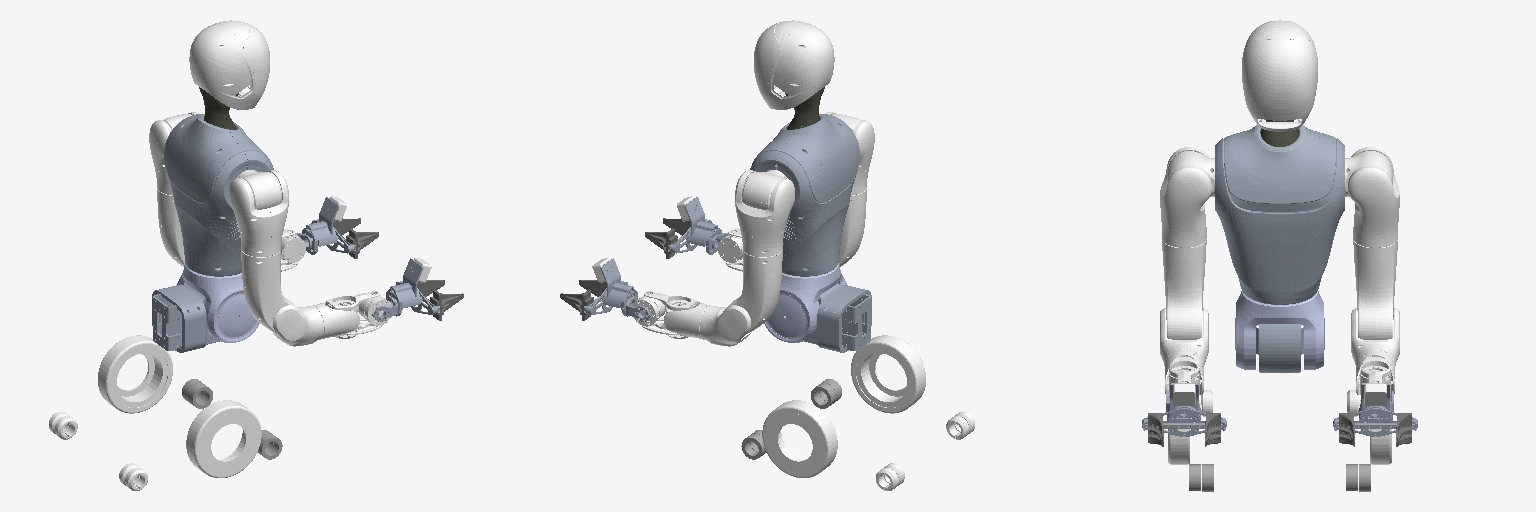
--- Facts derived from the render (not from the file) ---
3 views of the same robot in one strip: view 1: azimuth 30°, elevation 25°; view 2: azimuth 150°, elevation 25°; view 3: azimuth 270°, elevation 25° (orthographic).
Model ZR_H1PRO-1.2.00.H.V4.2_URDF_2025.11.17 with 35 links and 34 joints (18 revolute, 6 continuous, 5 prismatic, 5 fixed), rooted at dipan_link, posed every joint at zero.
Links seen in each view (by area): view 1: body_yaw_link, neck_pitch_link, right_middle_wheel_link, left_middle_wheel_link, daogui_link, body_pitch_link, right_shoulder_roll_link, right_shoulder_yaw_link, right_wrist_roll_link, right_elbow_link, right_wrist_pitch_link, left_wrist_pitch_link (+9 smaller); view 2: body_yaw_link, neck_pitch_link, left_middle_wheel_link, right_middle_wheel_link, daogui_link, body_pitch_link, left_shoulder_roll_link, left_shoulder_yaw_link, left_wrist_roll_link, left_elbow_link, left_wrist_pitch_link, right_wrist_pitch_link (+9 smaller); view 3: body_yaw_link, neck_pitch_link, body_pitch_link, right_shoulder_roll_link, left_shoulder_roll_link, left_shoulder_yaw_link, right_shoulder_yaw_link, daogui_link, left_wrist_pitch_link, right_wrist_pitch_link, left_wrist_roll_link, right_wrist_roll_link (+9 smaller).
Link boxes in pixels (box(x1,y1,x2,y2)): body_yaw_link: box(164, 114, 273, 276); neck_pitch_link: box(189, 20, 269, 109); right_middle_wheel_link: box(186, 400, 261, 477); left_middle_wheel_link: box(98, 335, 172, 413); daogui_link: box(152, 283, 219, 352); body_pitch_link: box(177, 263, 259, 342); right_shoulder_roll_link: box(229, 170, 288, 256); right_shoulder_yaw_link: box(241, 250, 295, 333); right_wrist_roll_link: box(313, 291, 381, 338); right_elbow_link: box(270, 305, 323, 346); right_wrist_pitch_link: box(372, 258, 439, 321); left_wrist_pitch_link: box(296, 197, 355, 254); body_yaw_link: box(750, 114, 859, 276); neck_pitch_link: box(754, 20, 834, 109); left_middle_wheel_link: box(762, 400, 837, 477); right_middle_wheel_link: box(851, 335, 925, 413); daogui_link: box(804, 283, 871, 352); body_pitch_link: box(764, 263, 846, 342); left_shoulder_roll_link: box(735, 170, 794, 256); left_shoulder_yaw_link: box(728, 250, 782, 333); left_wrist_roll_link: box(642, 291, 710, 338); left_elbow_link: box(700, 305, 753, 346); left_wrist_pitch_link: box(584, 258, 651, 321); right_wrist_pitch_link: box(668, 197, 727, 254); body_yaw_link: box(1215, 119, 1344, 304); neck_pitch_link: box(1242, 20, 1317, 131); body_pitch_link: box(1235, 291, 1324, 369); right_shoulder_roll_link: box(1160, 147, 1211, 247); left_shoulder_roll_link: box(1348, 147, 1399, 247); left_shoulder_yaw_link: box(1353, 240, 1397, 339); right_shoulder_yaw_link: box(1162, 240, 1206, 339); daogui_link: box(1256, 324, 1303, 372); left_wrist_pitch_link: box(1333, 383, 1417, 436); right_wrist_pitch_link: box(1142, 383, 1226, 436); left_wrist_roll_link: box(1356, 350, 1394, 411); right_wrist_roll_link: box(1165, 350, 1203, 411).
Bounding box of the posed robot: 0.7999 × 0.52 × 0.9583 m (x, y, z).
Meshes: 35 distinct files referenced, 33 mesh visuals loaded (33 binary STL); not drawn: 2 (reference not matched to a file when rendering).

The robot description file, URDF, robot "ZR_H1PRO-1.2.00.H.V4.2_URDF_2025.11.17":
<?xml version="1.0" encoding="utf-8"?>
<!-- This URDF was automatically created by SolidWorks to URDF Exporter! Originally created by Stephen Brawner ([email redacted]) 
     Commit Version: 1.6.0-4-g7f85cfe  Build Version: 1.6.7995.38578
     For more information, please see http://wiki.ros.org/sw_urdf_exporter -->
<robot
  name="ZR_H1PRO-1.2.00.H.V4.2_URDF_2025.11.17">
  <link
    name="dipan_link">
    <inertial>
      <origin
        xyz="0.00021947 -0.00045719 0.08921288"
        rpy="0 0 0" />
      <mass
        value="92.40985888" />
      <inertia
        ixx="12.0810981"
        ixy="-0.00505423"
        ixz="1.25403037"
        iyy="12.71175466"
        iyz="-0.00705268"
        izz="2.84527064" />
    </inertial>
    <visual>
      <origin
        xyz="0 0 0"
        rpy="0 0 0" />
      <geometry>
        <mesh
          filename="package://ZR_H1PRO-1.2.00.H.V4.2_URDF_2025.11.17/meshes/dipan_link.STL" />
      </geometry>
      <material
        name="">
        <color
          rgba="1 1 1 1" />
      </material>
    </visual>
    <collision>
      <origin
        xyz="0 0 0"
        rpy="0 0 0" />
      <geometry>
        <mesh
          filename="package://ZR_H1PRO-1.2.00.H.V4.2_URDF_2025.11.17/meshes/dipan_link.STL" />
      </geometry>
    </collision>
  </link>
  <link
    name="daogui_link">
    <inertial>
      <origin
        xyz="0.11560518 0.00060964 0.12206768"
        rpy="0 0 0" />
      <mass
        value="4.61714" />
      <inertia
        ixx="0.00837134"
        ixy="9.116e-05"
        ixz="-0.00126268"
        iyy="0.02136748"
        iyz="-5.34e-06"
        izz="0.02010722" />
    </inertial>
    <visual>
      <origin
        xyz="0 0 0"
        rpy="0 0 0" />
      <geometry>
        <mesh
          filename="package://ZR_H1PRO-1.2.00.H.V4.2_URDF_2025.11.17/meshes/daogui_link.STL" />
      </geometry>
      <material
        name="">
        <color
          rgba="0.66667 0.70588 0.76471 1" />
      </material>
    </visual>
    <collision>
      <origin
        xyz="0 0 0"
        rpy="0 0 0" />
      <geometry>
        <mesh
          filename="package://ZR_H1PRO-1.2.00.H.V4.2_URDF_2025.11.17/meshes/daogui_link.STL" />
      </geometry>
    </collision>
  </link>
  <joint
    name="daogui_joint"
    type="prismatic">
    <origin
      xyz="0 0 0"
      rpy="0 0 0" />
    <parent
      link="dipan_link" />
    <child
      link="daogui_link" />
    <axis
      xyz="0 0 1" />
    <limit
      lower="0"
      upper="0.8"
      effort="0"
      velocity="0" />
  </joint>
  <link
    name="body_pitch_link">
    <inertial>
      <origin
        xyz="-0.00013249 0.00049551 0.10848426"
        rpy="0 0 0" />
      <mass
        value="3.528" />
      <inertia
        ixx="0.01235314"
        ixy="-9.38e-06"
        ixz="6.133e-05"
        iyy="0.01092549"
        iyz="0.00020606"
        izz="0.00739427" />
    </inertial>
    <visual>
      <origin
        xyz="0 0 0"
        rpy="0 0 0" />
      <geometry>
        <mesh
          filename="package://ZR_H1PRO-1.2.00.H.V4.2_URDF_2025.11.17/meshes/body_pitch_link.STL" />
      </geometry>
      <material
        name="">
        <color
          rgba="0.79216 0.81961 0.93333 1" />
      </material>
    </visual>
    <collision>
      <origin
        xyz="0 0 0"
        rpy="0 0 0" />
      <geometry>
        <mesh
          filename="package://ZR_H1PRO-1.2.00.H.V4.2_URDF_2025.11.17/meshes/body_pitch_link.STL" />
      </geometry>
    </collision>
  </link>
  <joint
    name="body_pitch_joint"
    type="revolute">
    <origin
      xyz="0.1518 0 0.1275"
      rpy="0 0 0" />
    <parent
      link="daogui_link" />
    <child
      link="body_pitch_link" />
    <axis
      xyz="0 1 0" />
    <limit
      lower="-0.05236"
      upper="1.309"
      effort="204"
      velocity="3.14" />
  </joint>
  <link
    name="body_yaw_link">
    <inertial>
      <origin
        xyz="-0.00140951 0.00031062 0.13782806"
        rpy="0 0 0" />
      <mass
        value="3.85886409" />
      <inertia
        ixx="0.03623808"
        ixy="-3.118e-05"
        ixz="0.00019346"
        iyy="0.02298934"
        iyz="3.738e-05"
        izz="0.02244436" />
    </inertial>
    <visual>
      <origin
        xyz="0 0 0"
        rpy="0 0 0" />
      <geometry>
        <mesh
          filename="package://ZR_H1PRO-1.2.00.H.V4.2_URDF_2025.11.17/meshes/body_yaw_link.STL" />
      </geometry>
      <material
        name="">
        <color
          rgba="0.66667 0.70588 0.76471 1" />
      </material>
    </visual>
    <collision>
      <origin
        xyz="0 0 0"
        rpy="0 0 0" />
      <geometry>
        <mesh
          filename="package://ZR_H1PRO-1.2.00.H.V4.2_URDF_2025.11.17/meshes/body_yaw_link.STL" />
      </geometry>
    </collision>
  </link>
  <joint
    name="body_yaw_joint"
    type="revolute">
    <origin
      xyz="2.7149E-05 -0.00012105 0.1572"
      rpy="0 0 0" />
    <parent
      link="body_pitch_link" />
    <child
      link="body_yaw_link" />
    <axis
      xyz="0 0 1" />
    <limit
      lower="-1.0472"
      upper="1.0472"
      effort="204"
      velocity="3.14" />
  </joint>
  <link
    name="left_shoulder_pitch_link">
    <inertial>
      <origin
        xyz="-0.00318713 0.04899419 0.00017253"
        rpy="0 0 0" />
      <mass
        value="0.64195" />
      <inertia
        ixx="0.00045222"
        ixy="4.1e-06"
        ixz="1.97e-06"
        iyy="0.00047136"
        iyz="-1.26e-06"
        izz="0.00059588" />
    </inertial>
    <visual>
      <origin
        xyz="0 0 0"
        rpy="0 0 0" />
      <geometry>
        <mesh
          filename="package://ZR_H1PRO-1.2.00.H.V4.2_URDF_2025.11.17/meshes/left_shoulder_pitch_link.STL" />
      </geometry>
      <material
        name="">
        <color
          rgba="1 1 1 1" />
      </material>
    </visual>
    <collision>
      <origin
        xyz="0 0 0"
        rpy="0 0 0" />
      <geometry>
        <mesh
          filename="package://ZR_H1PRO-1.2.00.H.V4.2_URDF_2025.11.17/meshes/left_shoulder_pitch_link.STL" />
      </geometry>
    </collision>
  </link>
  <joint
    name="left_shoulder_pitch_joint"
    type="revolute">
    <origin
      xyz="-0.00021966 0.11612 0.16797"
      rpy="0 0 0" />
    <parent
      link="body_yaw_link" />
    <child
      link="left_shoulder_pitch_link" />
    <axis
      xyz="0 1 0" />
    <limit
      lower="-2.7925"
      upper="1.5708"
      effort="36"
      velocity="8.164" />
  </joint>
  <link
    name="left_shoulder_roll_link">
    <inertial>
      <origin
        xyz="0.00026688 0.00923491 -0.07177934"
        rpy="0 0 0" />
      <mass
        value="0.74474" />
      <inertia
        ixx="0.00140268"
        ixy="5.1e-06"
        ixz="-3.427e-05"
        iyy="0.00171477"
        iyz="5.976e-05"
        izz="0.00086884" />
    </inertial>
    <visual>
      <origin
        xyz="0 0 0"
        rpy="0 0 0" />
      <geometry>
        <mesh
          filename="package://ZR_H1PRO-1.2.00.H.V4.2_URDF_2025.11.17/meshes/left_shoulder_roll_link.STL" />
      </geometry>
      <material
        name="">
        <color
          rgba="1 1 1 1" />
      </material>
    </visual>
    <collision>
      <origin
        xyz="0 0 0"
        rpy="0 0 0" />
      <geometry>
        <mesh
          filename="package://ZR_H1PRO-1.2.00.H.V4.2_URDF_2025.11.17/meshes/left_shoulder_roll_link.STL" />
      </geometry>
    </collision>
  </link>
  <joint
    name="left_shoulder_roll_joint"
    type="revolute">
    <origin
      xyz="0.00019251 0.054 0.00013479"
      rpy="0 0 0" />
    <parent
      link="left_shoulder_pitch_link" />
    <child
      link="left_shoulder_roll_link" />
    <axis
      xyz="1 0 0" />
    <limit
      lower="-0.5236"
      upper="2.0944"
      effort="36"
      velocity="8.164" />
  </joint>
  <link
    name="left_shoulder_yaw_link">
    <inertial>
      <origin
        xyz="0.02386961 -0.00041351 -0.12487547"
        rpy="0 0 0" />
      <mass
        value="0.86464" />
      <inertia
        ixx="0.0031744"
        ixy="5.93e-06"
        ixz="0.00082261"
        iyy="0.00347038"
        iyz="-1.674e-05"
        izz="0.00088318" />
    </inertial>
    <visual>
      <origin
        xyz="0 0 0"
        rpy="0 0 0" />
      <geometry>
        <mesh
          filename="package://ZR_H1PRO-1.2.00.H.V4.2_URDF_2025.11.17/meshes/left_shoulder_yaw_link.STL" />
      </geometry>
      <material
        name="">
        <color
          rgba="1 1 1 1" />
      </material>
    </visual>
    <collision>
      <origin
        xyz="0 0 0"
        rpy="0 0 0" />
      <geometry>
        <mesh
          filename="package://ZR_H1PRO-1.2.00.H.V4.2_URDF_2025.11.17/meshes/left_shoulder_yaw_link.STL" />
      </geometry>
    </collision>
  </link>
  <joint
    name="left_shoulder_yaw_joint"
    type="revolute">
    <origin
      xyz="0 0.01 -0.12225"
      rpy="0 0 0" />
    <parent
      link="left_shoulder_roll_link" />
    <child
      link="left_shoulder_yaw_link" />
    <axis
      xyz="0 0 1" />
    <limit
      lower="-2.9671"
      upper="2.9671"
      effort="27"
      velocity="7.3267" />
  </joint>
  <link
    name="left_elbow_link">
    <inertial>
      <origin
        xyz="0.03098556 0.00057542 -0.0288024"
        rpy="0 0 0" />
      <mass
        value="0.33048" />
      <inertia
        ixx="0.0004881"
        ixy="1.78e-06"
        ixz="0.00012277"
        iyy="0.00048504"
        iyz="-2.1e-06"
        izz="0.00054349" />
    </inertial>
    <visual>
      <origin
        xyz="0 0 0"
        rpy="0 0 0" />
      <geometry>
        <mesh
          filename="package://ZR_H1PRO-1.2.00.H.V4.2_URDF_2025.11.17/meshes/left_elbow_link.STL" />
      </geometry>
      <material
        name="">
        <color
          rgba="1 1 1 1" />
      </material>
    </visual>
    <collision>
      <origin
        xyz="0 0 0"
        rpy="0 0 0" />
      <geometry>
        <mesh
          filename="package://ZR_H1PRO-1.2.00.H.V4.2_URDF_2025.11.17/meshes/left_elbow_link.STL" />
      </geometry>
    </collision>
  </link>
  <joint
    name="left_elbow_joint"
    type="revolute">
    <origin
      xyz="0.042 0 -0.16775"
      rpy="0 0 0" />
    <parent
      link="left_shoulder_yaw_link" />
    <child
      link="left_elbow_link" />
    <axis
      xyz="0 1 0" />
    <limit
      lower="-1.5184"
      upper="1.5708"
      effort="27"
      velocity="7.3267" />
  </joint>
  <link
    name="left_wrist_roll_link">
    <inertial>
      <origin
        xyz="0.06375062 -5.405e-05 -0.0009515"
        rpy="0 0 0" />
      <mass
        value="0.865677" />
      <inertia
        ixx="0.00052491"
        ixy="-6.1e-07"
        ixz="3.461e-05"
        iyy="0.00159541"
        iyz="6.3e-07"
        izz="0.00149224" />
    </inertial>
    <visual>
      <origin
        xyz="0 0 0"
        rpy="0 0 0" />
      <geometry>
        <mesh
          filename="package://ZR_H1PRO-1.2.00.H.V4.2_URDF_2025.11.17/meshes/left_wrist_roll_link.STL" />
      </geometry>
      <material
        name="">
        <color
          rgba="1 1 1 1" />
      </material>
    </visual>
    <collision>
      <origin
        xyz="0 0 0"
        rpy="0 0 0" />
      <geometry>
        <mesh
          filename="package://ZR_H1PRO-1.2.00.H.V4.2_URDF_2025.11.17/meshes/left_wrist_roll_link.STL" />
      </geometry>
    </collision>
  </link>
  <joint
    name="left_wrist_roll_joint"
    type="revolute">
    <origin
      xyz="0.07422 0 -0.042"
      rpy="0 0 0" />
    <parent
      link="left_elbow_link" />
    <child
      link="left_wrist_roll_link" />
    <axis
      xyz="1 0 0" />
    <limit
      lower="-2.9671"
      upper="2.9671"
      effort="0"
      velocity="0" />
  </joint>
  <link
    name="left_wrist_yaw_link">
    <inertial>
      <origin
        xyz="0.0 0.0033242 -0.00085429"
        rpy="0 0 0" />
      <mass
        value="0.344922" />
      <inertia
        ixx="0.00015509"
        ixy="-0.0"
        ixz="3e-08"
        iyy="0.00016396"
        iyz="-2.04e-06"
        izz="0.0001271" />
    </inertial>
    <visual>
      <origin
        xyz="0 0 0"
        rpy="0 0 0" />
      <geometry>
        <mesh
          filename="package://ZR_H1PRO-1.2.00.H.V4.2_URDF_2025.11.17/meshes/left_wrist_yaw_link.STL" />
      </geometry>
      <material
        name="">
        <color
          rgba="1 1 1 1" />
      </material>
    </visual>
    <collision>
      <origin
        xyz="0 0 0"
        rpy="0 0 0" />
      <geometry>
        <mesh
          filename="package://ZR_H1PRO-1.2.00.H.V4.2_URDF_2025.11.17/meshes/left_wrist_yaw_link.STL" />
      </geometry>
    </collision>
  </link>
  <joint
    name="left_wrist_yaw_joint"
    type="revolute">
    <origin
      xyz="0.16278 0 0"
      rpy="0 0 0" />
    <parent
      link="left_wrist_roll_link" />
    <child
      link="left_wrist_yaw_link" />
    <axis
      xyz="0 0 1" />
    <limit
      lower="-1.0472"
      upper="1.0472"
      effort="9"
      velocity="16.747" />
  </joint>
  <link
    name="left_wrist_pitch_link">
    <inertial>
      <origin
        xyz="0.07825733 0.00143511 0.00315751"
        rpy="0 0 0" />
      <mass
        value="0.5139" />
      <inertia
        ixx="0.00046134"
        ixy="4.762e-05"
        ixz="-1.314e-05"
        iyy="0.00044669"
        iyz="-5.2e-07"
        izz="0.00060413" />
    </inertial>
    <visual>
      <origin
        xyz="0 0 0"
        rpy="0 0 0" />
      <geometry>
        <mesh
          filename="package://ZR_H1PRO-1.2.00.H.V4.2_URDF_2025.11.17/meshes/left_wrist_pitch_link.STL" />
      </geometry>
      <material
        name="">
        <color
          rgba="0.66667 0.69804 0.76863 1" />
      </material>
    </visual>
    <collision>
      <origin
        xyz="0 0 0"
        rpy="0 0 0" />
      <geometry>
        <mesh
          filename="package://ZR_H1PRO-1.2.00.H.V4.2_URDF_2025.11.17/meshes/left_wrist_pitch_link.STL" />
      </geometry>
    </collision>
  </link>
  <joint
    name="left_wrist_pitch_joint"
    type="revolute">
    <origin
      xyz="0 0 0"
      rpy="0 0 0" />
    <parent
      link="left_wrist_yaw_link" />
    <child
      link="left_wrist_pitch_link" />
    <axis
      xyz="0 1 0" />
    <limit
      lower="-1.0472"
      upper="1.0472"
      effort="9"
      velocity="16.747" />
  </joint>
  <link
    name="left_jaw_left_finger_link">
    <inertial>
      <origin
        xyz="0.02875166 0.04972677 -0.00087113"
        rpy="0 0 0" />
      <mass
        value="0.057096" />
      <inertia
        ixx="1.643e-05"
        ixy="2.46e-06"
        ixz="1.89e-06"
        iyy="2.627e-05"
        iyz="4.7e-07"
        izz="2.05e-05" />
    </inertial>
    <visual>
      <origin
        xyz="0 0 0"
        rpy="0 0 0" />
      <geometry>
        <mesh
          filename="package://ZR_H1PRO-1.2.00.H.V4.2_URDF_2025.11.17/meshes/left_jaw_left_finger_link.STL" />
      </geometry>
      <material
        name="">
        <color
          rgba="0.49804 0.49804 0.49804 1" />
      </material>
    </visual>
    <collision>
      <origin
        xyz="0 0 0"
        rpy="0 0 0" />
      <geometry>
        <mesh
          filename="package://ZR_H1PRO-1.2.00.H.V4.2_URDF_2025.11.17/meshes/left_jaw_left_finger_link.STL" />
      </geometry>
    </collision>
  </link>
  <joint
    name="left_jaw_left_finger_joint"
    type="prismatic">
    <origin
      xyz="0.102 0 0"
      rpy="0 0 0" />
    <parent
      link="left_wrist_pitch_link" />
    <child
      link="left_jaw_left_finger_link" />
    <axis
      xyz="0 1 0" />
    <limit
      lower="-0.04"
      upper="0"
      effort="120"
      velocity="0.25" />
  </joint>
  <link
    name="left_jaw_right_finger_link">
    <inertial>
      <origin
        xyz="0.02884254 -0.05065805 -0.00142222"
        rpy="0 0 0" />
      <mass
        value="0.057987" />
      <inertia
        ixx="1.518e-05"
        ixy="-3.71e-06"
        ixz="1.14e-06"
        iyy="2.561e-05"
        iyz="3.1e-07"
        izz="1.872e-05" />
    </inertial>
    <visual>
      <origin
        xyz="0 0 0"
        rpy="0 0 0" />
      <geometry>
        <mesh
          filename="package://ZR_H1PRO-1.2.00.H.V4.2_URDF_2025.11.17/meshes/left_jaw_right_finger_link.STL" />
      </geometry>
      <material
        name="">
        <color
          rgba="0.49804 0.49804 0.49804 1" />
      </material>
    </visual>
    <collision>
      <origin
        xyz="0 0 0"
        rpy="0 0 0" />
      <geometry>
        <mesh
          filename="package://ZR_H1PRO-1.2.00.H.V4.2_URDF_2025.11.17/meshes/left_jaw_right_finger_link.STL" />
      </geometry>
    </collision>
  </link>
  <joint
    name="left_jaw_right_finger_joint"
    type="prismatic">
    <origin
      xyz="0.102 0 0"
      rpy="0 0 0" />
    <parent
      link="left_wrist_pitch_link" />
    <child
      link="left_jaw_right_finger_link" />
    <axis
      xyz="0 1 0" />
    <limit
      lower="0"
      upper="0.04"
      effort="120"
      velocity="0.25" />
  </joint>
  <link
    name="left_jaw_camera_link">
    <inertial>
      <origin
        xyz="0.0 0.005 -0.01561719"
        rpy="0 0 0" />
      <mass
        value="0.05789" />
      <inertia
        ixx="1.081e-05"
        ixy="-0.0"
        ixz="-0.0"
        iyy="1.08e-05"
        iyz="-0.0"
        izz="1.658e-05" />
    </inertial>
    <visual>
      <origin
        xyz="0 0 0"
        rpy="0 0 0" />
      <geometry>
        <mesh
          filename="package://ZR_H1PRO-1.2.00.H.V4.2_URDF_2025.11.17/meshes/left_jaw_camera_link.STL" />
      </geometry>
      <material
        name="">
        <color
          rgba="1 1 1 1" />
      </material>
    </visual>
    <collision>
      <origin
        xyz="0 0 0"
        rpy="0 0 0" />
      <geometry>
        <mesh
          filename="package://ZR_H1PRO-1.2.00.H.V4.2_URDF_2025.11.17/meshes/left_jaw_camera_link.STL" />
      </geometry>
    </collision>
  </link>
  <joint
    name="left_jaw_camera_joint"
    type="fixed">
    <origin
      xyz="0.096166 0 0.065657"
      rpy="1.1345 0 -1.5708" />
    <parent
      link="left_wrist_pitch_link" />
    <child
      link="left_jaw_camera_link" />
    <axis
      xyz="0 0 0" />
  </joint>
  <link
    name="left_end_effector_link">
    <inertial>
      <origin
        xyz="-0.027172 -5.6108E-09 1.2941E-06"
        rpy="0 0 0" />
      <mass
        value="0.0066601" />
      <inertia
        ixx="1.2345E-05"
        ixy="-7.5727E-14"
        ixz="2.3275E-11"
        iyy="6.5495E-08"
        iyz="-8.2193E-15"
        izz="1.232E-05" />
    </inertial>
    <visual>
      <origin
        xyz="0 0 0"
        rpy="0 0 0" />
      <geometry>
        <mesh
          filename="package://ZR_H1PRO-1.2.00.H.V4.2_URDF_2025.11.17/meshes/left_end_effector_link.STL" />
      </geometry>
      <material
        name="">
        <color
          rgba="0.68627 0.68627 0.68627 1" />
      </material>
    </visual>
    <collision>
      <origin
        xyz="0 0 0"
        rpy="0 0 0" />
      <geometry>
        <mesh
          filename="package://ZR_H1PRO-1.2.00.H.V4.2_URDF_2025.11.17/meshes/left_end_effector_link.STL" />
      </geometry>
    </collision>
  </link>
  <joint
    name="left_end_effector_joint"
    type="fixed">
    <origin
      xyz="0.1435 0 0"
      rpy="0 0 0" />
    <parent
      link="left_wrist_pitch_link" />
    <child
      link="left_end_effector_link" />
    <axis
      xyz="0 0 0" />
  </joint>
  <link
    name="right_shoulder_pitch_link">
    <inertial>
      <origin
        xyz="-0.00296457 -0.04904683 3.797e-05"
        rpy="0 0 0" />
      <mass
        value="0.64101" />
      <inertia
        ixx="0.00045089"
        ixy="-2.81e-06"
        ixz="2e-06"
        iyy="0.00047256"
        iyz="1.25e-06"
        izz="0.00059577" />
    </inertial>
    <visual>
      <origin
        xyz="0 0 0"
        rpy="0 0 0" />
      <geometry>
        <mesh
          filename="package://ZR_H1PRO-1.2.00.H.V4.2_URDF_2025.11.17/meshes/right_shoulder_pitch_link.STL" />
      </geometry>
      <material
        name="">
        <color
          rgba="1 1 1 1" />
      </material>
    </visual>
    <collision>
      <origin
        xyz="0 0 0"
        rpy="0 0 0" />
      <geometry>
        <mesh
          filename="package://ZR_H1PRO-1.2.00.H.V4.2_URDF_2025.11.17/meshes/right_shoulder_pitch_link.STL" />
      </geometry>
    </collision>
  </link>
  <joint
    name="right_shoulder_pitch_joint"
    type="revolute">
    <origin
      xyz="-2.7149E-05 -0.11588 0.1681"
      rpy="0 0 0" />
    <parent
      link="body_yaw_link" />
    <child
      link="right_shoulder_pitch_link" />
    <axis
      xyz="0 1 0" />
    <limit
      lower="-2.7925"
      upper="1.5708"
      effort="36"
      velocity="8.164" />
  </joint>
  <link
    name="right_shoulder_roll_link">
    <inertial>
      <origin
        xyz="-0.00133187 -0.00922469 -0.07161686"
        rpy="0 0 0" />
      <mass
        value="0.74679" />
      <inertia
        ixx="0.00139598"
        ixy="5.44e-06"
        ixz="5.175e-05"
        iyy="0.00171725"
        iyz="-6.198e-05"
        izz="0.00087417" />
    </inertial>
    <visual>
      <origin
        xyz="0 0 0"
        rpy="0 0 0" />
      <geometry>
        <mesh
          filename="package://ZR_H1PRO-1.2.00.H.V4.2_URDF_2025.11.17/meshes/right_shoulder_roll_link.STL" />
      </geometry>
      <material
        name="">
        <color
          rgba="1 1 1 1" />
      </material>
    </visual>
    <collision>
      <origin
        xyz="0 0 0"
        rpy="0 0 0" />
      <geometry>
        <mesh
          filename="package://ZR_H1PRO-1.2.00.H.V4.2_URDF_2025.11.17/meshes/right_shoulder_roll_link.STL" />
      </geometry>
    </collision>
  </link>
  <joint
    name="right_shoulder_roll_joint"
    type="revolute">
    <origin
      xyz="0 -0.054 0"
      rpy="0 0 0" />
    <parent
      link="right_shoulder_pitch_link" />
    <child
      link="right_shoulder_roll_link" />
    <axis
      xyz="1 0 0" />
    <limit
      lower="-2.0944"
      upper="0.5236"
      effort="36"
      velocity="8.164" />
  </joint>
  <link
    name="right_shoulder_yaw_link">
    <inertial>
      <origin
        xyz="0.0239688 0.00071183 -0.1239035"
        rpy="0 0 0" />
      <mass
        value="0.876" />
      <inertia
        ixx="0.00321433"
        ixy="-1.109e-05"
        ixz="0.00082281"
        iyy="0.00352394"
        iyz="2.732e-05"
        izz="0.0008837" />
    </inertial>
    <visual>
      <origin
        xyz="0 0 0"
        rpy="0 0 0" />
      <geometry>
        <mesh
          filename="package://ZR_H1PRO-1.2.00.H.V4.2_URDF_2025.11.17/meshes/right_shoulder_yaw_link.STL" />
      </geometry>
      <material
        name="">
        <color
          rgba="1 1 1 1" />
      </material>
    </visual>
    <collision>
      <origin
        xyz="0 0 0"
        rpy="0 0 0" />
      <geometry>
        <mesh
          filename="package://ZR_H1PRO-1.2.00.H.V4.2_URDF_2025.11.17/meshes/right_shoulder_yaw_link.STL" />
      </geometry>
    </collision>
  </link>
  <joint
    name="right_shoulder_yaw_joint"
    type="revolute">
    <origin
      xyz="0 -0.01 -0.12225"
      rpy="0 0 0" />
    <parent
      link="right_shoulder_roll_link" />
    <child
      link="right_shoulder_yaw_link" />
    <axis
      xyz="0 0 1" />
    <limit
      lower="-2.9671"
      upper="2.9671"
      effort="27"
      velocity="7.3267" />
  </joint>
  <link
    name="right_elbow_link">
    <inertial>
      <origin
        xyz="0.03112194 -0.0007412 -0.02933948"
        rpy="0 0 0" />
      <mass
        value="0.33678" />
      <inertia
        ixx="0.00049435"
        ixy="-1.58e-06"
        ixz="0.00012405"
        iyy="0.00049082"
        iyz="3.2e-07"
        izz="0.00054512" />
    </inertial>
    <visual>
      <origin
        xyz="0 0 0"
        rpy="0 0 0" />
      <geometry>
        <mesh
          filename="package://ZR_H1PRO-1.2.00.H.V4.2_URDF_2025.11.17/meshes/right_elbow_link.STL" />
      </geometry>
      <material
        name="">
        <color
          rgba="1 1 1 1" />
      </material>
    </visual>
    <collision>
      <origin
        xyz="0 0 0"
        rpy="0 0 0" />
      <geometry>
        <mesh
          filename="package://ZR_H1PRO-1.2.00.H.V4.2_URDF_2025.11.17/meshes/right_elbow_link.STL" />
      </geometry>
    </collision>
  </link>
  <joint
    name="right_elbow_joint"
    type="revolute">
    <origin
      xyz="0.042 0 -0.16775"
      rpy="0 0 0" />
    <parent
      link="right_shoulder_yaw_link" />
    <child
      link="right_elbow_link" />
    <axis
      xyz="0 1 0" />
    <limit
      lower="-1.5184"
      upper="1.5708"
      effort="27"
      velocity="7.3267" />
  </joint>
  <link
    name="right_wrist_roll_link">
    <inertial>
      <origin
        xyz="0.06371011 -6.085e-05 -0.0009271"
        rpy="0 0 0" />
      <mass
        value="0.86459" />
      <inertia
        ixx="0.00052336"
        ixy="-6.6e-07"
        ixz="3.426e-05"
        iyy="0.00159313"
        iyz="7.8e-07"
        izz="0.00149055" />
    </inertial>
    <visual>
      <origin
        xyz="0 0 0"
        rpy="0 0 0" />
      <geometry>
        <mesh
          filename="package://ZR_H1PRO-1.2.00.H.V4.2_URDF_2025.11.17/meshes/right_wrist_roll_link.STL" />
      </geometry>
      <material
        name="">
        <color
          rgba="1 1 1 1" />
      </material>
    </visual>
    <collision>
      <origin
        xyz="0 0 0"
        rpy="0 0 0" />
      <geometry>
        <mesh
          filename="package://ZR_H1PRO-1.2.00.H.V4.2_URDF_2025.11.17/meshes/right_wrist_roll_link.STL" />
      </geometry>
    </collision>
  </link>
  <joint
    name="right_wrist_roll_joint"
    type="revolute">
    <origin
      xyz="0.07422 0 -0.042"
      rpy="0 0 0" />
    <parent
      link="right_elbow_link" />
    <child
      link="right_wrist_roll_link" />
    <axis
      xyz="1 0 0" />
    <limit
      lower="-2.9671"
      upper="2.9671"
      effort="9"
      velocity="16.747" />
  </joint>
  <link
    name="right_wrist_yaw_link">
    <inertial>
      <origin
        xyz="0.0 -0.00328156 -0.00077334"
        rpy="0 0 0" />
      <mass
        value="0.344042" />
      <inertia
        ixx="0.00015395"
        ixy="-0.0"
        ixz="-3e-08"
        iyy="0.00016307"
        iyz="2.5e-06"
        izz="0.00012685" />
    </inertial>
    <visual>
      <origin
        xyz="0 0 0"
        rpy="0 0 0" />
      <geometry>
        <mesh
          filename="package://ZR_H1PRO-1.2.00.H.V4.2_URDF_2025.11.17/meshes/right_wrist_yaw_link.STL" />
      </geometry>
      <material
        name="">
        <color
          rgba="1 1 1 1" />
      </material>
    </visual>
    <collision>
      <origin
        xyz="0 0 0"
        rpy="0 0 0" />
      <geometry>
        <mesh
          filename="package://ZR_H1PRO-1.2.00.H.V4.2_URDF_2025.11.17/meshes/right_wrist_yaw_link.STL" />
      </geometry>
    </collision>
  </link>
  <joint
    name="right_wrist_yaw_joint"
    type="revolute">
    <origin
      xyz="0.16278 0 0"
      rpy="0 0 0" />
    <parent
      link="right_wrist_roll_link" />
    <child
      link="right_wrist_yaw_link" />
    <axis
      xyz="0 0 1" />
    <limit
      lower="-1.0472"
      upper="1.0472"
      effort="9"
      velocity="16.747" />
  </joint>
  <link
    name="right_wrist_pitch_link">
    <inertial>
      <origin
        xyz="0.07825729 -0.00152809 0.00315775"
        rpy="0 0 0" />
      <mass
        value="0.5139" />
      <inertia
        ixx="0.0004612"
        ixy="-4.866e-05"
        ixz="-1.313e-05"
        iyy="0.00044669"
        iyz="-5.33e-06"
        izz="0.00060399" />
    </inertial>
    <visual>
      <origin
        xyz="0 0 0"
        rpy="0 0 0" />
      <geometry>
        <mesh
          filename="package://ZR_H1PRO-1.2.00.H.V4.2_URDF_2025.11.17/meshes/right_wrist_pitch_link.STL" />
      </geometry>
      <material
        name="">
        <color
          rgba="0.66667 0.69804 0.76863 1" />
      </material>
    </visual>
    <collision>
      <origin
        xyz="0 0 0"
        rpy="0 0 0" />
      <geometry>
        <mesh
          filename="package://ZR_H1PRO-1.2.00.H.V4.2_URDF_2025.11.17/meshes/right_wrist_pitch_link.STL" />
      </geometry>
    </collision>
  </link>
  <joint
    name="right_wrist_pitch_joint"
    type="revolute">
    <origin
      xyz="0 0 0"
      rpy="0 0 0" />
    <parent
      link="right_wrist_yaw_link" />
    <child
      link="right_wrist_pitch_link" />
    <axis
      xyz="0 1 0" />
    <limit
      lower="-1.0472"
      upper="1.0472"
      effort="9"
      velocity="16.747" />
  </joint>
  <link
    name="right_jaw_left_finger_link">
    <inertial>
      <origin
        xyz="0.02884538 0.0506592 -0.00142357"
        rpy="0 0 0" />
      <mass
        value="0.057986" />
      <inertia
        ixx="1.518e-05"
        ixy="3.71e-06"
        ixz="1.13e-06"
        iyy="2.562e-05"
        iyz="-3.1e-07"
        izz="1.874e-05" />
    </inertial>
    <visual>
      <origin
        xyz="0 0 0"
        rpy="0 0 0" />
      <geometry>
        <mesh
          filename="package://ZR_H1PRO-1.2.00.H.V4.2_URDF_2025.11.17/meshes/right_jaw_left_finger_link.STL" />
      </geometry>
      <material
        name="">
        <color
          rgba="0.49804 0.49804 0.49804 1" />
      </material>
    </visual>
    <collision>
      <origin
        xyz="0 0 0"
        rpy="0 0 0" />
      <geometry>
        <mesh
          filename="package://ZR_H1PRO-1.2.00.H.V4.2_URDF_2025.11.17/meshes/right_jaw_left_finger_link.STL" />
      </geometry>
    </collision>
  </link>
  <joint
    name="right_jaw_left_finger_joint"
    type="prismatic">
    <origin
      xyz="0.102 0 0"
      rpy="0 0 0" />
    <parent
      link="right_wrist_pitch_link" />
    <child
      link="right_jaw_left_finger_link" />
    <axis
      xyz="0 1 0" />
    <limit
      lower="-0.04"
      upper="0"
      effort="120"
      velocity="0.25" />
  </joint>
  <link
    name="right_jaw_right_finger_link">
    <inertial>
      <origin
        xyz="0.02884278 -0.05065791 -0.00142222"
        rpy="0 0 0" />
      <mass
        value="0.057987" />
      <inertia
        ixx="1.518e-05"
        ixy="-3.71e-06"
        ixz="1.14e-06"
        iyy="2.561e-05"
        iyz="3.1e-07"
        izz="1.872e-05" />
    </inertial>
    <visual>
      <origin
        xyz="0 0 0"
        rpy="0 0 0" />
      <geometry>
        <mesh
          filename="package://ZR_H1PRO-1.2.00.H.V4.2_URDF_2025.11.17/meshes/right_jaw_right_finger_link.STL" />
      </geometry>
      <material
        name="">
        <color
          rgba="0.49804 0.49804 0.49804 1" />
      </material>
    </visual>
    <collision>
      <origin
        xyz="0 0 0"
        rpy="0 0 0" />
      <geometry>
        <mesh
          filename="package://ZR_H1PRO-1.2.00.H.V4.2_URDF_2025.11.17/meshes/right_jaw_right_finger_link.STL" />
      </geometry>
    </collision>
  </link>
  <joint
    name="right_jaw_right_finger_joint"
    type="prismatic">
    <origin
      xyz="0.102 0 0"
      rpy="0 0 0" />
    <parent
      link="right_wrist_pitch_link" />
    <child
      link="right_jaw_right_finger_link" />
    <axis
      xyz="0 1 0" />
    <limit
      lower="0"
      upper="0.04"
      effort="120"
      velocity="0.25" />
  </joint>
  <link
    name="right_jaw_camera_link">
    <inertial>
      <origin
        xyz="0.0 0.005 -0.01561719"
        rpy="0 0 0" />
      <mass
        value="0.05789" />
      <inertia
        ixx="1.081e-05"
        ixy="-0.0"
        ixz="-0.0"
        iyy="1.08e-05"
        iyz="-0.0"
        izz="1.658e-05" />
    </inertial>
    <visual>
      <origin
        xyz="0 0 0"
        rpy="0 0 0" />
      <geometry>
        <mesh
          filename="package://ZR_H1PRO-1.2.00.H.V4.2_URDF_2025.11.17/meshes/right_jaw_camera_link.STL" />
      </geometry>
      <material
        name="">
        <color
          rgba="1 1 1 1" />
      </material>
    </visual>
    <collision>
      <origin
        xyz="0 0 0"
        rpy="0 0 0" />
      <geometry>
        <mesh
          filename="package://ZR_H1PRO-1.2.00.H.V4.2_URDF_2025.11.17/meshes/right_jaw_camera_link.STL" />
      </geometry>
    </collision>
  </link>
  <joint
    name="right_jaw_camera_joint"
    type="fixed">
    <origin
      xyz="0.096166 0 0.065657"
      rpy="1.1345 0 -1.5708" />
    <parent
      link="right_wrist_pitch_link" />
    <child
      link="right_jaw_camera_link" />
    <axis
      xyz="0 0 0" />
  </joint>
  <link
    name="right_end_effector_link">
    <inertial>
      <origin
        xyz="-0.027172 -1.3538E-07 1.2941E-06"
        rpy="0 0 0" />
      <mass
        value="0.0066601" />
      <inertia
        ixx="1.2345E-05"
        ixy="5.8568E-11"
        ixz="2.3275E-11"
        iyy="6.5495E-08"
        iyz="-8.108E-15"
        izz="1.232E-05" />
    </inertial>
    <visual>
      <origin
        xyz="0 0 0"
        rpy="0 0 0" />
      <geometry>
        <mesh
          filename="package://ZR_H1PRO-1.2.00.H.V4.2_URDF_2025.11.17/meshes/right_end_effector_link.STL" />
      </geometry>
      <material
        name="">
        <color
          rgba="0.68627 0.68627 0.68627 1" />
      </material>
    </visual>
    <collision>
      <origin
        xyz="0 0 0"
        rpy="0 0 0" />
      <geometry>
        <mesh
          filename="package://ZR_H1PRO-1.2.00.H.V4.2_URDF_2025.11.17/meshes/right_end_effector_link.STL" />
      </geometry>
    </collision>
  </link>
  <joint
    name="right_end_effector_joint"
    type="fixed">
    <origin
      xyz="0.1435 0 0"
      rpy="0 0 0" />
    <parent
      link="right_wrist_pitch_link" />
    <child
      link="right_end_effector_link" />
    <axis
      xyz="0 0 0" />
  </joint>
  <link
    name="neck_yaw_link">
    <inertial>
      <origin
        xyz="-0.00118756 -0.00142144 0.08983028"
        rpy="0 0 0" />
      <mass
        value="0.500718" />
      <inertia
        ixx="0.00087672"
        ixy="2.99e-06"
        ixz="-3.24e-06"
        iyy="0.00084562"
        iyz="-5.84e-06"
        izz="0.00027146" />
    </inertial>
    <visual>
      <origin
        xyz="0 0 0"
        rpy="0 0 0" />
      <geometry>
        <mesh
          filename="package://ZR_H1PRO-1.2.00.H.V4.2_URDF_2025.11.17/meshes/neck_yaw_link.STL" />
      </geometry>
      <material
        name="">
        <color
          rgba="0.34902 0.35686 0.31373 1" />
      </material>
    </visual>
    <collision>
      <origin
        xyz="0 0 0"
        rpy="0 0 0" />
      <geometry>
        <mesh
          filename="package://ZR_H1PRO-1.2.00.H.V4.2_URDF_2025.11.17/meshes/neck_yaw_link.STL" />
      </geometry>
    </collision>
  </link>
  <joint
    name="neck_yaw_joint"
    type="revolute">
    <origin
      xyz="-2.71488271641473E-05 0.000121052292962553 0.2491"
      rpy="0 0 0" />
    <parent
      link="body_yaw_link" />
    <child
      link="neck_yaw_link" />
    <axis
      xyz="0 0 1" />
    <limit
      lower="-1.5708"
      upper="1.5708"
      effort="9"
      velocity="16.747" />
  </joint>
  <link
    name="neck_pitch_link">
    <inertial>
      <origin
        xyz="0.04074346 -0.00094429 0.04406688"
        rpy="0 0 0" />
      <mass
        value="0.85987615" />
      <inertia
        ixx="0.00305527"
        ixy="-3.089e-05"
        ixz="0.00012776"
        iyy="0.00319256"
        iyz="-3.464e-05"
        izz="0.00271799" />
    </inertial>
    <visual>
      <origin
        xyz="0 0 0"
        rpy="0 0 0" />
      <geometry>
        <mesh
          filename="package://ZR_H1PRO-1.2.00.H.V4.2_URDF_2025.11.17/meshes/neck_pitch_link.STL" />
      </geometry>
      <material
        name="">
        <color
          rgba="1 1 1 1" />
      </material>
    </visual>
    <collision>
      <origin
        xyz="0 0 0"
        rpy="0 0 0" />
      <geometry>
        <mesh
          filename="package://ZR_H1PRO-1.2.00.H.V4.2_URDF_2025.11.17/meshes/neck_pitch_link.STL" />
      </geometry>
    </collision>
  </link>
  <joint
    name="neck_pitch_joint"
    type="revolute">
    <origin
      xyz="0 0 0.11"
      rpy="0 0 0" />
    <parent
      link="neck_yaw_link" />
    <child
      link="neck_pitch_link" />
    <axis
      xyz="0 1 0" />
    <limit
      lower="-0.7854"
      upper="0.5236"
      effort="9"
      velocity="16.747" />
  </joint>
  <link
    name="neck_camera_link">
    <inertial>
      <origin
        xyz="0.02975925 8.48e-06 -0.00996785"
        rpy="0 0 0" />
      <mass
        value="0.07123" />
      <inertia
        ixx="6.97e-06"
        ixy="3e-08"
        ixz="1.8e-07"
        iyy="4.688e-05"
        iyz="-4e-08"
        izz="4.697e-05" />
    </inertial>
    <visual>
      <origin
        xyz="0 0 0"
        rpy="0 0 0" />
      <geometry>
        <mesh
          filename="package://ZR_H1PRO-1.2.00.H.V4.2_URDF_2025.11.17/meshes/neck_camera_link.STL" />
      </geometry>
      <material
        name="">
        <color
          rgba="1 1 1 1" />
      </material>
    </visual>
    <collision>
      <origin
        xyz="0 0 0"
        rpy="0 0 0" />
      <geometry>
        <mesh
          filename="package://ZR_H1PRO-1.2.00.H.V4.2_URDF_2025.11.17/meshes/neck_camera_link.STL" />
      </geometry>
    </collision>
  </link>
  <joint
    name="neck_camera_joint"
    type="fixed">
    <origin
      xyz="0.0682334995183438 0.0324999999999979 -0.0364770320265024"
      rpy="-1.78023593389281 0 -1.5707963267949" />
    <parent
      link="neck_pitch_link" />
    <child
      link="neck_camera_link" />
    <axis
      xyz="0 0 0" />
  </joint>
  <link
    name="left_front_wheel_link">
    <inertial>
      <origin
        xyz="0.0 0.0 0.0"
        rpy="0 0 0" />
      <mass
        value="0.16" />
      <inertia
        ixx="6.766e-05"
        ixy="-0.0"
        ixz="-0.0"
        iyy="7.514e-05"
        iyz="-0.0"
        izz="6.766e-05" />
    </inertial>
    <visual>
      <origin
        xyz="0 0 0"
        rpy="0 0 0" />
      <geometry>
        <mesh
          filename="package://ZR_H1PRO-1.2.00.H.V4.2_URDF_2025.11.17/meshes/left_front_wheel_link.STL" />
      </geometry>
      <material
        name="">
        <color
          rgba="0.6902 0.6902 0.6902 1" />
      </material>
    </visual>
    <collision>
      <origin
        xyz="0 0 0"
        rpy="0 0 0" />
      <geometry>
        <mesh
          filename="package://ZR_H1PRO-1.2.00.H.V4.2_URDF_2025.11.17/meshes/left_front_wheel_link.STL" />
      </geometry>
    </collision>
  </link>
  <joint
    name="left_front_wheel_joint"
    type="continuous">
    <origin
      xyz="0.184 0.148 -0.156"
      rpy="0 0 0" />
    <parent
      link="dipan_link" />
    <child
      link="left_front_wheel_link" />
    <axis
      xyz="0 1 0" />
    <limit
      effort="0"
      velocity="0" />
  </joint>
  <link
    name="left_middle_wheel_link">
    <inertial>
      <origin
        xyz="0.0 0.00140713 0.0"
        rpy="0 0 0" />
      <mass
        value="2.0" />
      <inertia
        ixx="0.00516956"
        ixy="-0.0"
        ixz="-0.0"
        iyy="0.00976607"
        iyz="-0.0"
        izz="0.00516956" />
    </inertial>
    <visual>
      <origin
        xyz="0 0 0"
        rpy="0 0 0" />
      <geometry>
        <mesh
          filename="package://ZR_H1PRO-1.2.00.H.V4.2_URDF_2025.11.17/meshes/left_middle_wheel_link.STL" />
      </geometry>
      <material
        name="">
        <color
          rgba="1 1 1 1" />
      </material>
    </visual>
    <collision>
      <origin
        xyz="0 0 0"
        rpy="0 0 0" />
      <geometry>
        <mesh
          filename="package://ZR_H1PRO-1.2.00.H.V4.2_URDF_2025.11.17/meshes/left_middle_wheel_link.STL" />
      </geometry>
    </collision>
  </link>
  <joint
    name="left_middle_wheel_joint"
    type="continuous">
    <origin
      xyz="0.0544 0.1895 -0.0965"
      rpy="0 0 0" />
    <parent
      link="dipan_link" />
    <child
      link="left_middle_wheel_link" />
    <axis
      xyz="0 1 0" />
    <limit
      effort="60"
      velocity="2.3" />
  </joint>
  <link
    name="left_rear_wheel_link">
    <inertial>
      <origin
        xyz="0.0 0.0 0.0"
        rpy="0 0 0" />
      <mass
        value="0.12" />
      <inertia
        ixx="4.893e-05"
        ixy="-0.0"
        ixz="-0.0"
        iyy="4.906e-05"
        iyz="-0.0"
        izz="4.938e-05" />
    </inertial>
    <visual>
      <origin
        xyz="0 0 0"
        rpy="0 0 0" />
      <geometry>
        <mesh
          filename="package://ZR_H1PRO-1.2.00.H.V4.2_URDF_2025.11.17/meshes/left_rear_wheel_link.STL" />
      </geometry>
      <material
        name="">
        <color
          rgba="1 1 1 1" />
      </material>
    </visual>
    <collision>
      <origin
        xyz="0 0 0"
        rpy="0 0 0" />
      <geometry>
        <mesh
          filename="package://ZR_H1PRO-1.2.00.H.V4.2_URDF_2025.11.17/meshes/left_rear_wheel_link.STL" />
      </geometry>
    </collision>
  </link>
  <joint
    name="left_rear_wheel_joint"
    type="continuous">
    <origin
      xyz="-0.1465 0.151 -0.155"
      rpy="0 0 0" />
    <parent
      link="dipan_link" />
    <child
      link="left_rear_wheel_link" />
    <axis
      xyz="0 1 0" />
    <limit
      lower="0"
      upper="0"
      effort="0"
      velocity="0" />
  </joint>
  <link
    name="right_front_wheel_link">
    <inertial>
      <origin
        xyz="0.0 0.0 0.0"
        rpy="0 0 0" />
      <mass
        value="0.16" />
      <inertia
        ixx="6.766e-05"
        ixy="-0.0"
        ixz="-0.0"
        iyy="7.514e-05"
        iyz="-0.0"
        izz="6.766e-05" />
    </inertial>
    <visual>
      <origin
        xyz="0 0 0"
        rpy="0 0 0" />
      <geometry>
        <mesh
          filename="package://ZR_H1PRO-1.2.00.H.V4.2_URDF_2025.11.17/meshes/right_front_wheel_link.STL" />
      </geometry>
      <material
        name="">
        <color
          rgba="0.6902 0.6902 0.6902 1" />
      </material>
    </visual>
    <collision>
      <origin
        xyz="0 0 0"
        rpy="0 0 0" />
      <geometry>
        <mesh
          filename="package://ZR_H1PRO-1.2.00.H.V4.2_URDF_2025.11.17/meshes/right_front_wheel_link.STL" />
      </geometry>
    </collision>
  </link>
  <joint
    name="right_front_wheel_joint"
    type="continuous">
    <origin
      xyz="0.184 -0.148 -0.156"
      rpy="0 0 0" />
    <parent
      link="dipan_link" />
    <child
      link="right_front_wheel_link" />
    <axis
      xyz="0 1 0" />
  </joint>
  <link
    name="right_middle_wheel_link">
    <inertial>
      <origin
        xyz="0.0 -0.00140713 0.0"
        rpy="0 0 0" />
      <mass
        value="2.0" />
      <inertia
        ixx="0.00516956"
        ixy="-0.0"
        ixz="-0.0"
        iyy="0.00976607"
        iyz="-0.0"
        izz="0.00516956" />
    </inertial>
    <visual>
      <origin
        xyz="0 0 0"
        rpy="0 0 0" />
      <geometry>
        <mesh
          filename="package://ZR_H1PRO-1.2.00.H.V4.2_URDF_2025.11.17/meshes/right_middle_wheel_link.STL" />
      </geometry>
      <material
        name="">
        <color
          rgba="1 1 1 1" />
      </material>
    </visual>
    <collision>
      <origin
        xyz="0 0 0"
        rpy="0 0 0" />
      <geometry>
        <mesh
          filename="package://ZR_H1PRO-1.2.00.H.V4.2_URDF_2025.11.17/meshes/right_middle_wheel_link.STL" />
      </geometry>
    </collision>
  </link>
  <joint
    name="right_middle_wheel_joint"
    type="continuous">
    <origin
      xyz="0.0544 -0.1895 -0.0965"
      rpy="0 0 0" />
    <parent
      link="dipan_link" />
    <child
      link="right_middle_wheel_link" />
    <axis
      xyz="0 1 0" />
    <limit
      effort="60"
      velocity="2.3" />
  </joint>
  <link
    name="right_rear_wheel_link">
    <inertial>
      <origin
        xyz="0.0 0.0 0.0"
        rpy="0 0 0" />
      <mass
        value="0.12" />
      <inertia
        ixx="4.893e-05"
        ixy="-0.0"
        ixz="-0.0"
        iyy="4.906e-05"
        iyz="-0.0"
        izz="4.938e-05" />
    </inertial>
    <visual>
      <origin
        xyz="0 0 0"
        rpy="0 0 0" />
      <geometry>
        <mesh
          filename="package://ZR_H1PRO-1.2.00.H.V4.2_URDF_2025.11.17/meshes/right_rear_wheel_link.STL" />
      </geometry>
      <material
        name="">
        <color
          rgba="1 1 1 1" />
      </material>
    </visual>
    <collision>
      <origin
        xyz="0 0 0"
        rpy="0 0 0" />
      <geometry>
        <mesh
          filename="package://ZR_H1PRO-1.2.00.H.V4.2_URDF_2025.11.17/meshes/right_rear_wheel_link.STL" />
      </geometry>
    </collision>
  </link>
  <joint
    name="right_rear_wheel_joint"
    type="continuous">
    <origin
      xyz="-0.1465 -0.151 -0.155"
      rpy="0 0 0" />
    <parent
      link="dipan_link" />
    <child
      link="right_rear_wheel_link" />
    <axis
      xyz="0 1 0" />
  </joint>
</robot>
